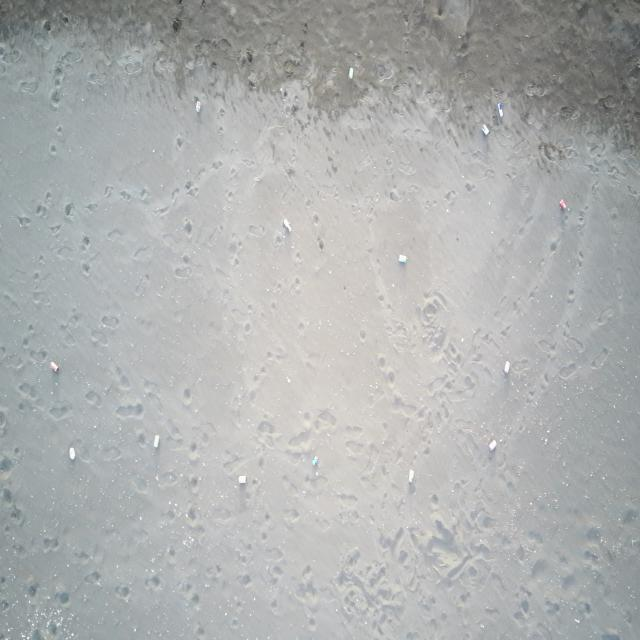tin-and-aluminum-cans: (282, 216, 294, 234), (408, 467, 416, 484), (397, 252, 407, 265), (481, 123, 490, 137), (348, 64, 355, 82), (194, 98, 201, 115), (489, 440, 498, 453), (559, 200, 569, 211), (498, 102, 504, 120), (154, 432, 160, 450), (503, 359, 510, 374), (238, 474, 248, 484), (50, 360, 58, 372), (70, 446, 76, 461), (313, 455, 319, 467)
